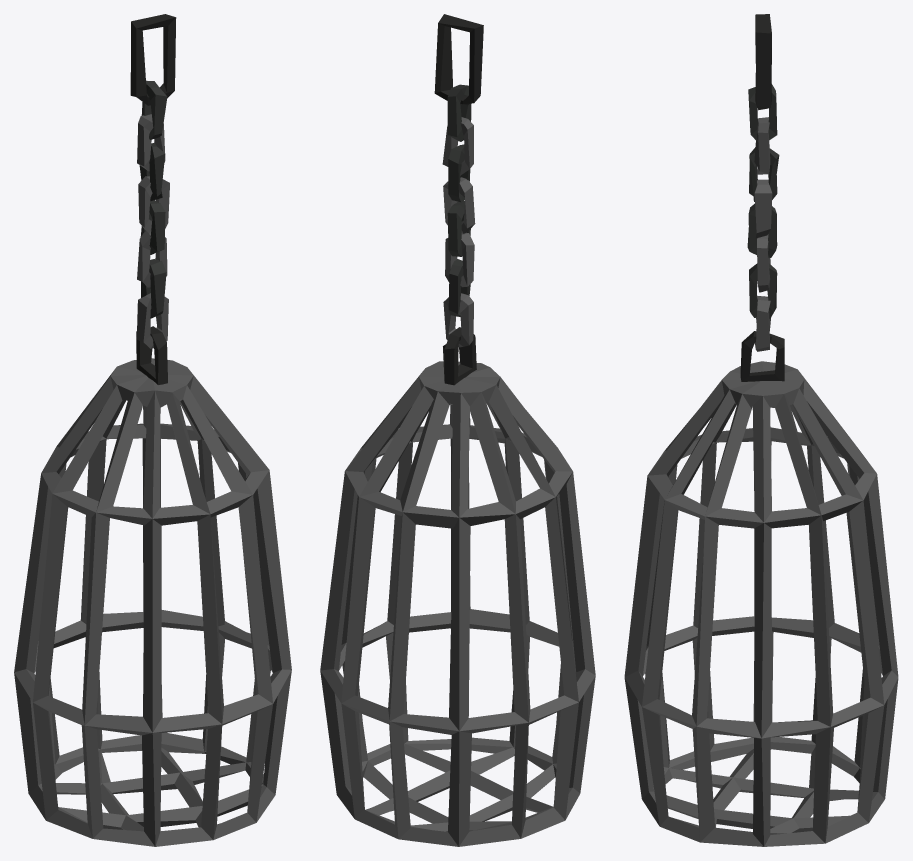
Rendered from cage.fbx.
3 renders of one model, left to right at view 1: azimuth 30°, elevation 25°; view 2: azimuth 150°, elevation 25°; view 3: azimuth 270°, elevation 25°, orthographic.
Parts seen in each view (by area): view 1: cage_LOD0; view 2: cage_LOD0; view 3: cage_LOD0.
Part boxes in pixels (<box>): cage_LOD0: <box>14,14,291,846</box>; cage_LOD0: <box>320,14,595,846</box>; cage_LOD0: <box>624,14,898,846</box>.
Size of what is drawn, in the model's own units: 1.33 by 4.16 by 1.31.
